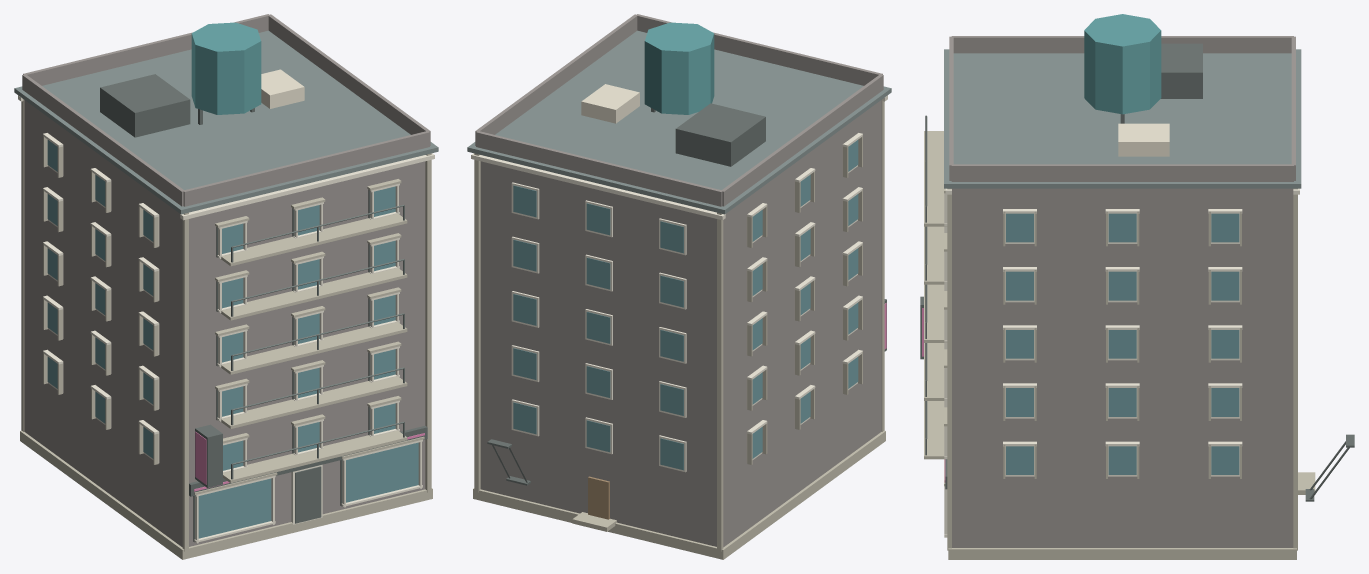
The picture shows the model from 3 angles, left to right: view 1: azimuth 30°, elevation 25°; view 2: azimuth 150°, elevation 25°; view 3: azimuth 270°, elevation 25°; orthographic projection. The views are drawn at different scales.
Size of the model in its own units: 14.9 by 23.94 by 20.3.
